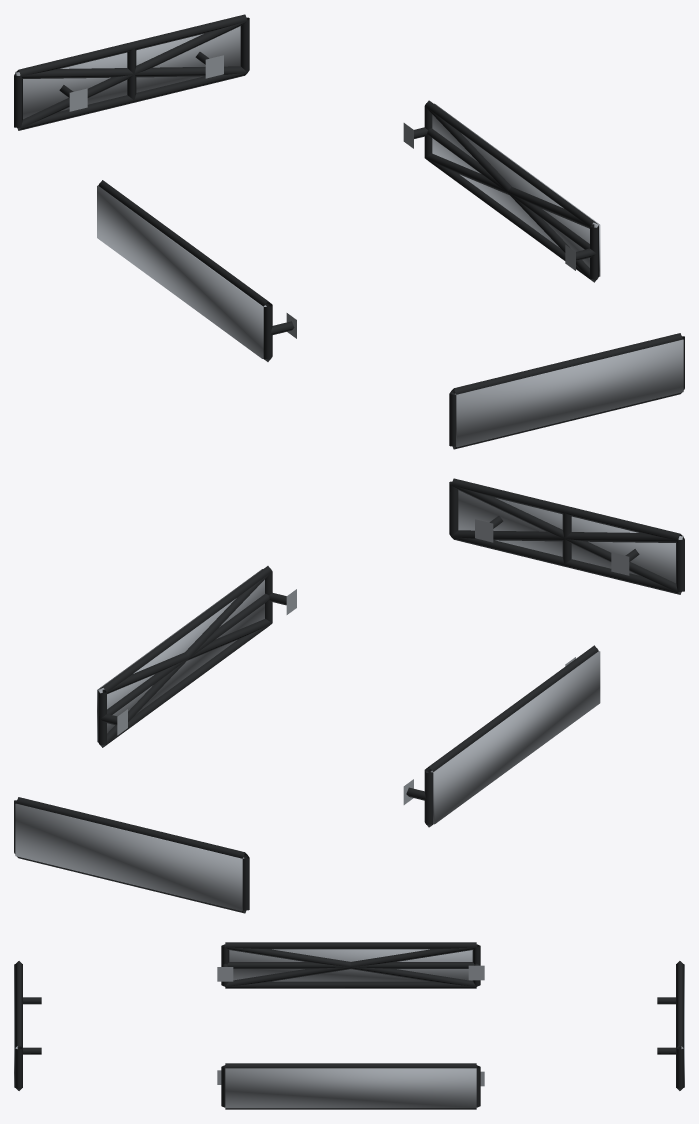
File: vallon_meandro_protecao.glb
3 views of the same model, one above another, from view 1: azimuth 30°, elevation 25°; view 2: azimuth 150°, elevation 25°; view 3: azimuth 270°, elevation 25° (orthographic). The views are drawn at different scales.
Parts seen in each view (by area): view 1: Protection_front_Level3_Details, Protection_left_Level3_Details, Protection_rear_Level1_Details, Protection_rear_Level3_Details, Protection_right_Level1_Details, Protection_right_Level2_Details, Protection_rear_Level2_Details, Protection_right_Level3_Details, Protection_front_Level1_Details, Protection_left_Level1_Details; view 2: Protection_rear_Level3_Details, Protection_left_Level3_Details, Protection_front_Level1_Details, Protection_front_Level3_Details, Protection_right_Level1_Details, Protection_right_Level2_Details, Protection_front_Level2_Details, Protection_right_Level3_Details, Protection_rear_Level1_Details, Protection_left_Level1_Details; view 3: Protection_right_Level3_Details, Protection_left_Level2_Details, Protection_left_Level1_Details, Protection_left_Level3_Details, Protection_right_Level1_Details, Protection_rear_Level1_Details, Protection_front_Level1_Details.
Part boxes in pixels (bbox=[...]): Protection_front_Level3_Details: bbox=[454, 339, 683, 447]; Protection_left_Level3_Details: bbox=[97, 185, 266, 358]; Protection_rear_Level1_Details: bbox=[14, 14, 249, 130]; Protection_rear_Level3_Details: bbox=[15, 26, 240, 119]; Protection_right_Level1_Details: bbox=[403, 100, 598, 282]; Protection_right_Level2_Details: bbox=[425, 106, 597, 281]; Protection_rear_Level2_Details: bbox=[16, 21, 247, 129]; Protection_right_Level3_Details: bbox=[432, 103, 600, 276]; Protection_front_Level1_Details: bbox=[449, 333, 684, 449]; Protection_left_Level1_Details: bbox=[98, 180, 296, 361]; Protection_rear_Level3_Details: bbox=[15, 803, 244, 911]; Protection_left_Level3_Details: bbox=[430, 651, 600, 824]; Protection_front_Level1_Details: bbox=[449, 478, 684, 594]; Protection_front_Level3_Details: bbox=[458, 490, 683, 583]; Protection_right_Level1_Details: bbox=[98, 566, 296, 747]; Protection_right_Level2_Details: bbox=[99, 572, 272, 747]; Protection_front_Level2_Details: bbox=[451, 485, 682, 593]; Protection_right_Level3_Details: bbox=[97, 569, 264, 742]; Protection_rear_Level1_Details: bbox=[14, 797, 249, 913]; Protection_left_Level1_Details: bbox=[403, 645, 598, 827]; Protection_right_Level3_Details: bbox=[225, 1068, 476, 1108]; Protection_left_Level2_Details: bbox=[225, 945, 476, 986]; Protection_left_Level1_Details: bbox=[217, 942, 484, 988]; Protection_left_Level3_Details: bbox=[229, 949, 472, 981]; Protection_right_Level1_Details: bbox=[217, 1063, 484, 1109]; Protection_rear_Level1_Details: bbox=[657, 961, 683, 1090]; Protection_front_Level1_Details: bbox=[15, 961, 41, 1090].
Bounding box in the file's own units: 2.04 × 0.354 × 4.62.
Materials: 1 (1 with a texture image).
